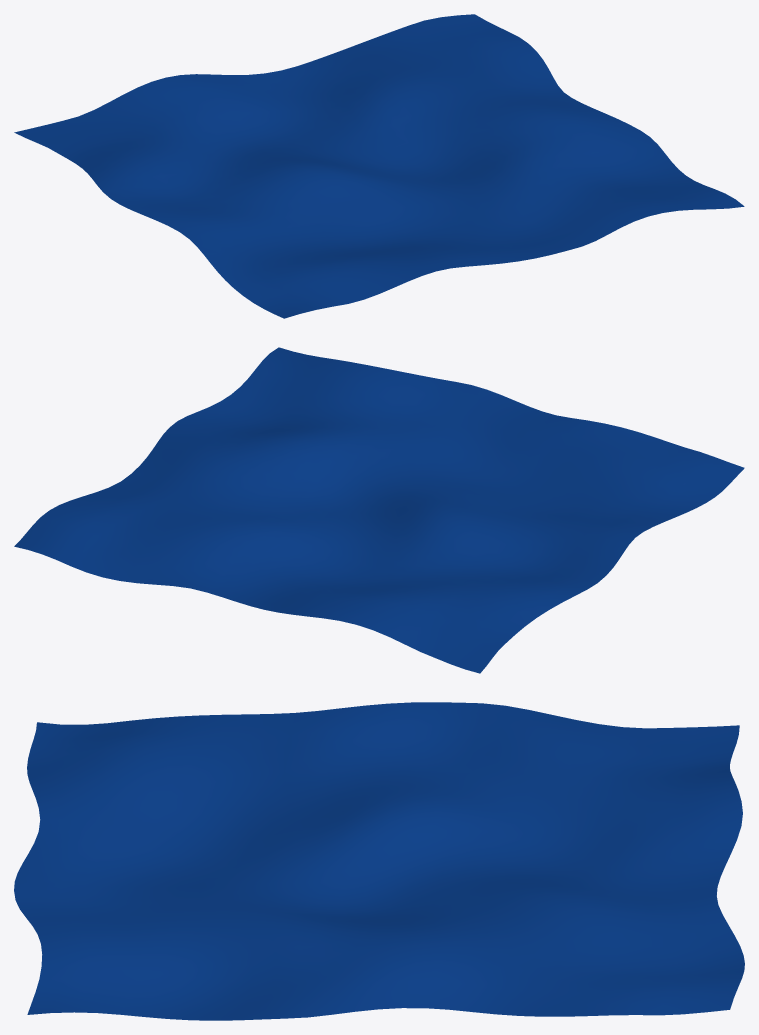
Rendered from wave_9.obj.
3 renders of one model, top to bottom at view 1: azimuth 30°, elevation 25°; view 2: azimuth 150°, elevation 25°; view 3: azimuth 270°, elevation 25°, orthographic. The views are drawn at different scales.
Parts seen in each view (by area): view 1: Plane001; view 2: Plane001; view 3: Plane001.
Boxes of the visible parts, left/top/right/bottom form: Plane001: left=14, top=14, right=744, bottom=318; Plane001: left=14, top=347, right=744, bottom=673; Plane001: left=14, top=702, right=744, bottom=1020.
Size of the model in its own units: 410 by 16.6 by 410.
